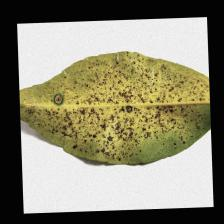canker: (80, 72, 187, 141)
